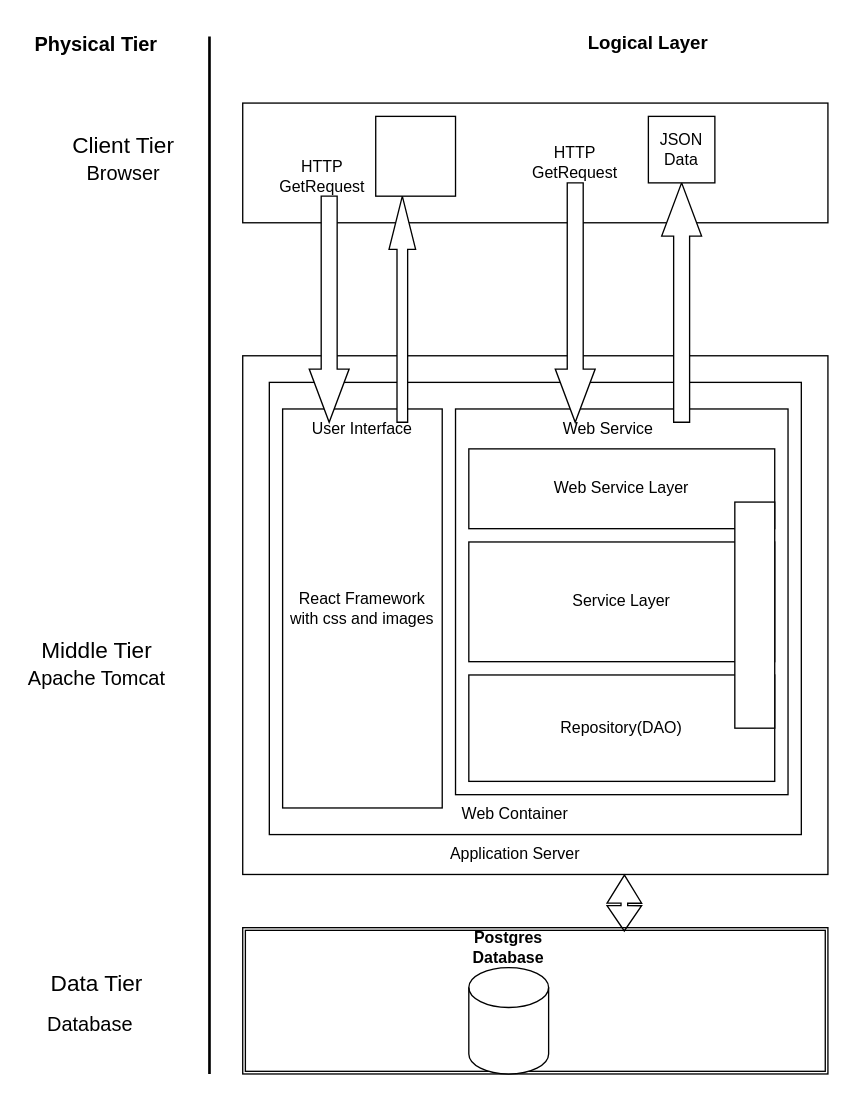
This 851x1097 diagram has some shape labels left out. Here are the shapes that lost their labels. From the top down, the centre of each, then its label:
the point at 415,155: React Page
the point at 754,614: DI
